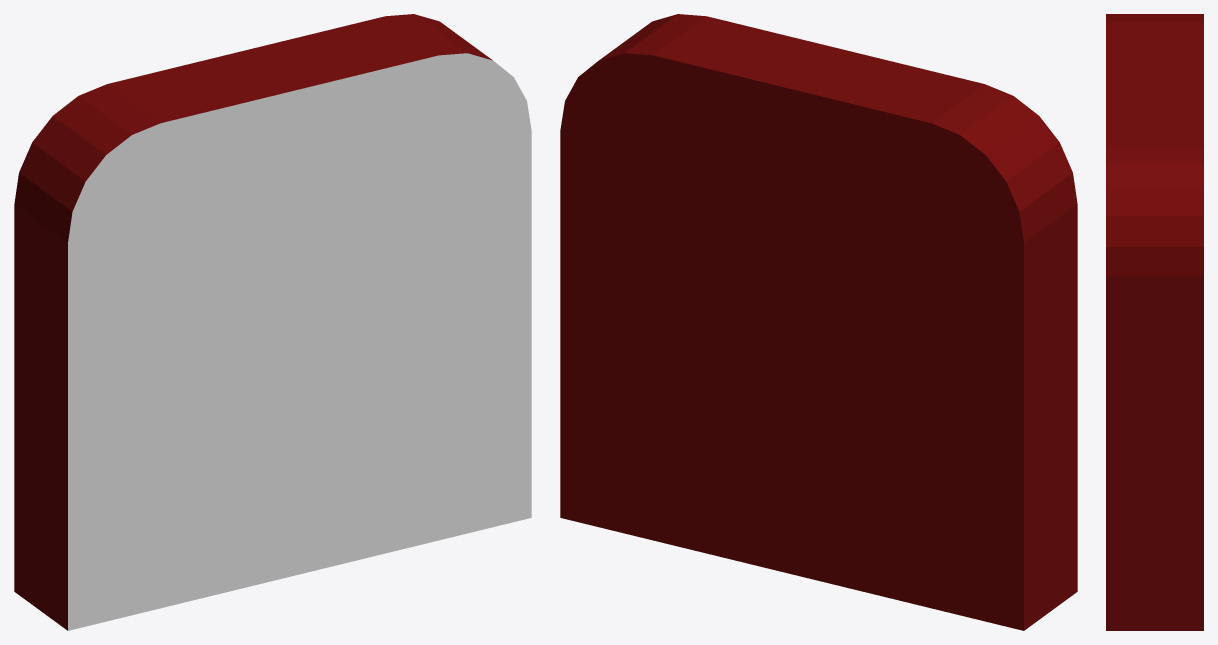
File: AmoSmall.fbx
3 renders of one model, left to right at view 1: azimuth 30°, elevation 25°; view 2: azimuth 150°, elevation 25°; view 3: azimuth 270°, elevation 25°, orthographic. The views are drawn at different scales.
Parts seen in each view (by area): view 1: AmoSmall; view 2: AmoSmall; view 3: AmoSmall.
Part boxes in pixels (bbox=[...]): AmoSmall: bbox=[14, 14, 531, 630]; AmoSmall: bbox=[560, 14, 1077, 630]; AmoSmall: bbox=[1106, 14, 1203, 630].
Bounding box in the file's own units: 50 × 50 × 10.
